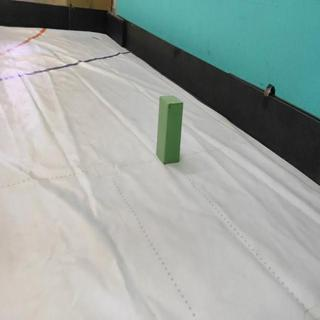greenbox: (157, 95, 183, 166)
